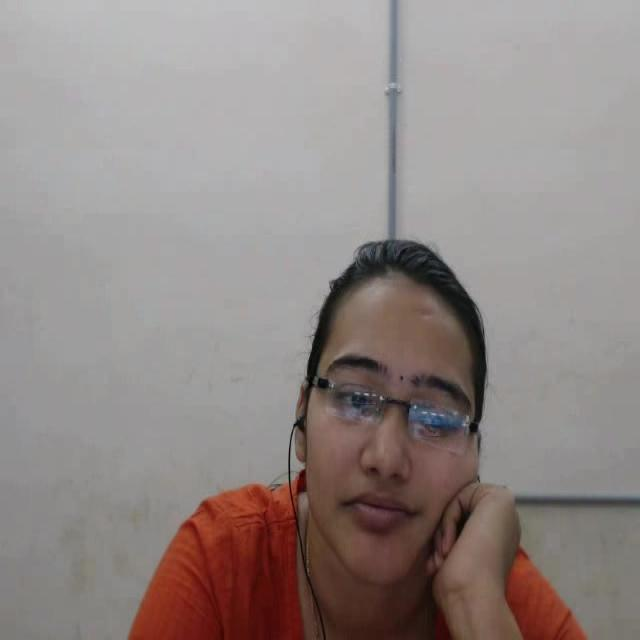Bored: (246, 218, 514, 615)
